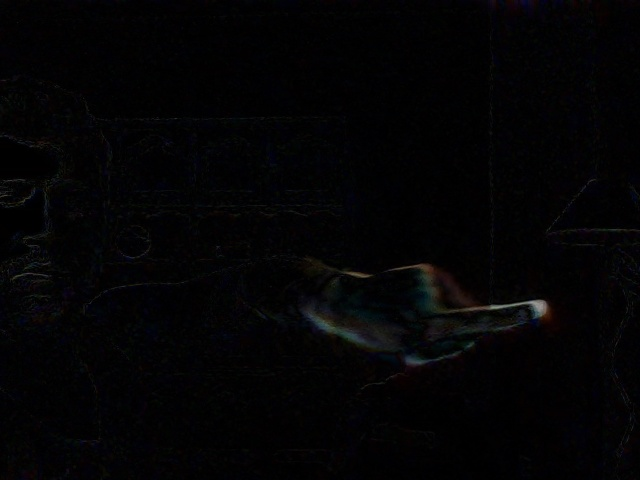hand_po: (354, 243, 559, 376)
